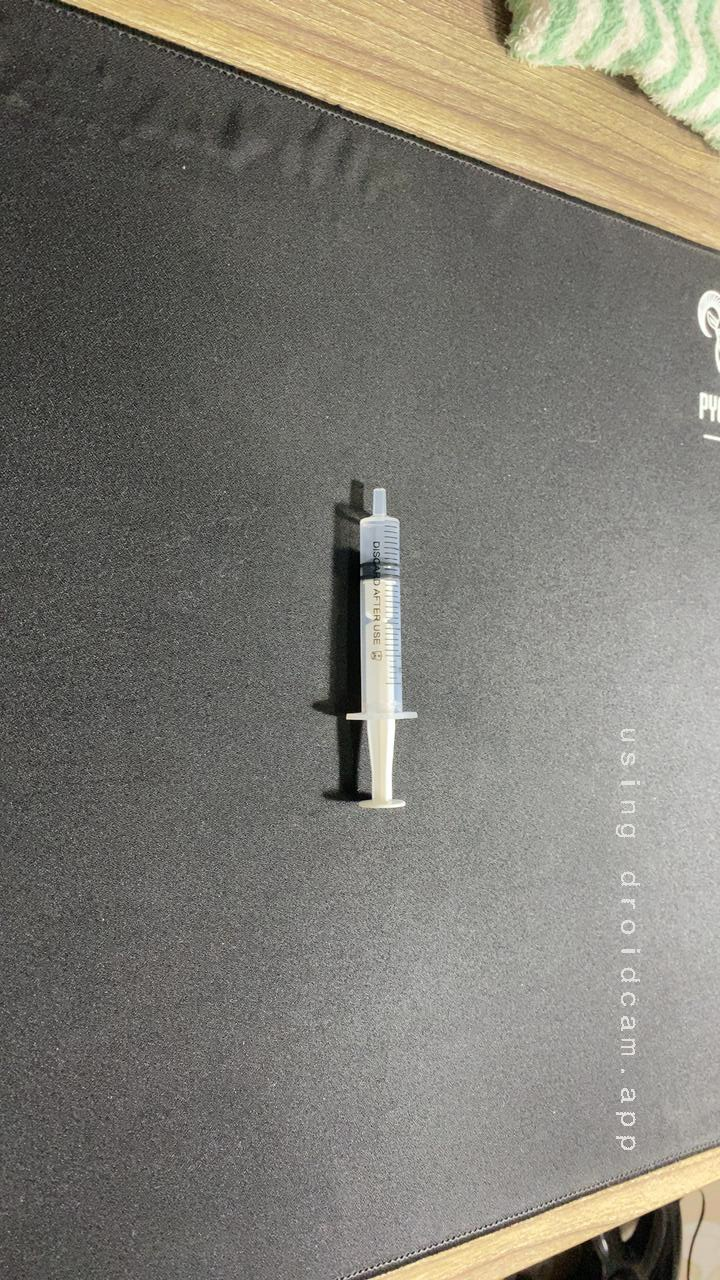syringe: (299, 468, 445, 821)
